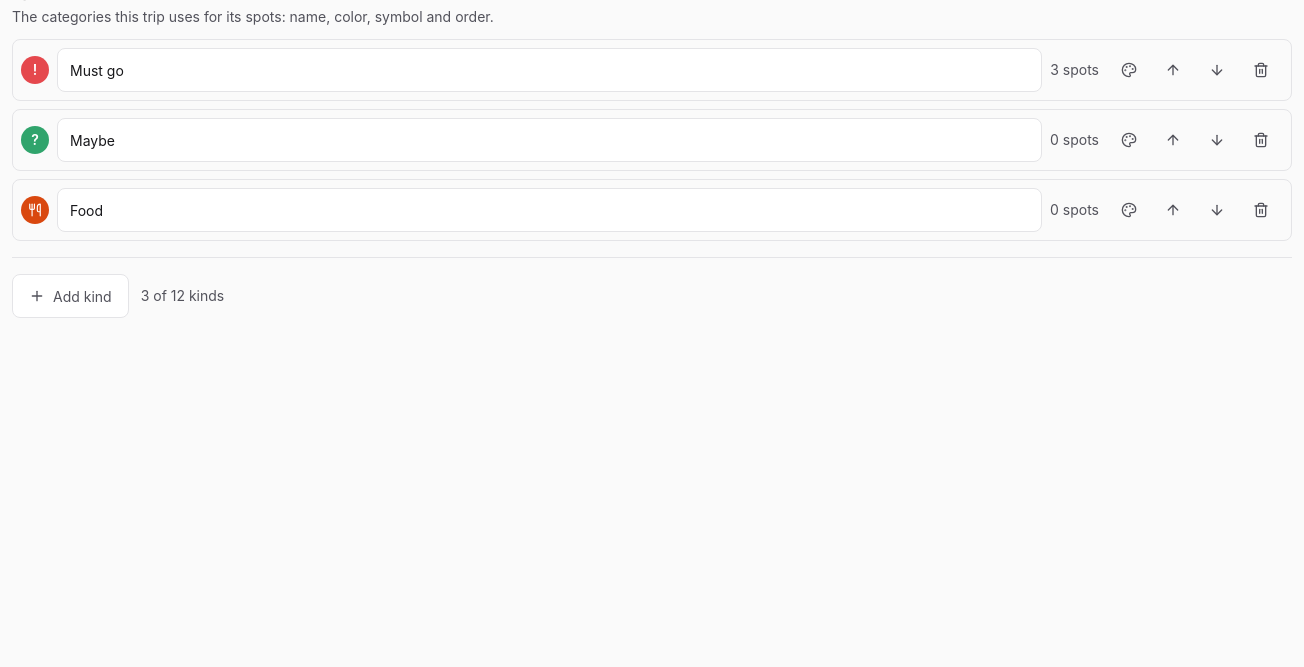
Test: spot kinds section › shows a name conflict from the API
Click the button with test id "kind-add-menu" at (70, 296), box [12,274,129,318]
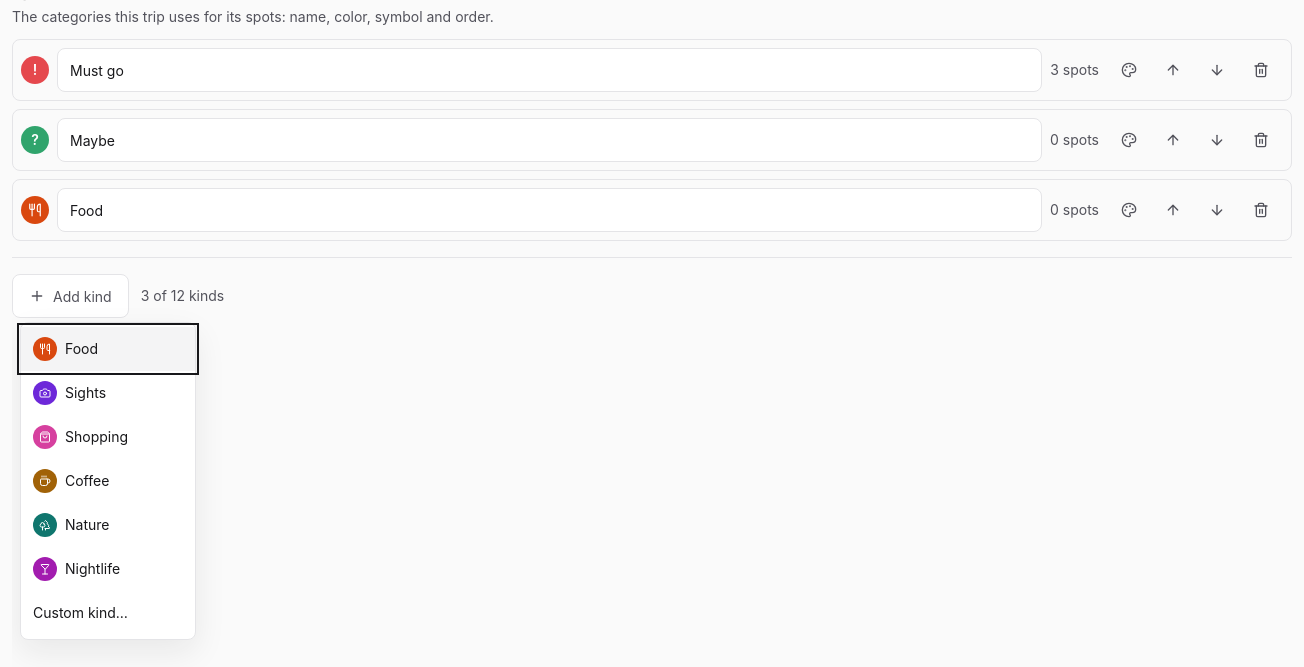
Click the menu item with test id "kind-add-custom" at (108, 613), box [21,591,195,635]
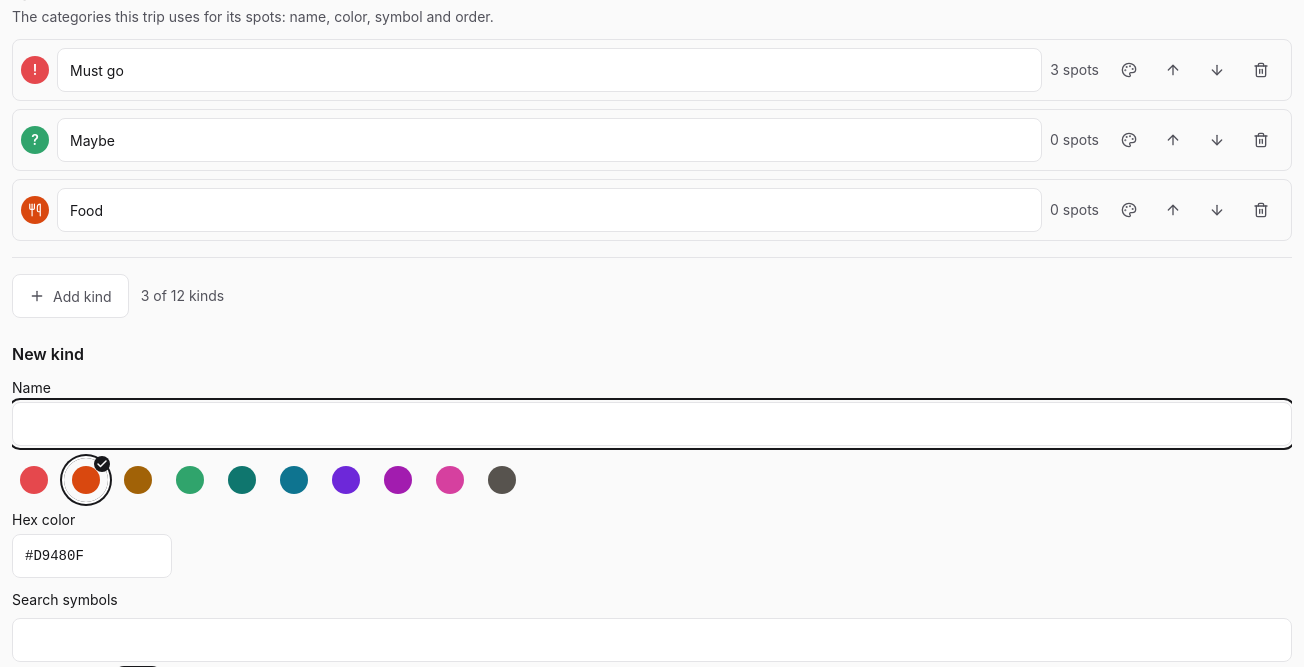
Type "Food" into the field labelled "Name" at (652, 424), box [12,402,1292,446]
(page scrolled)
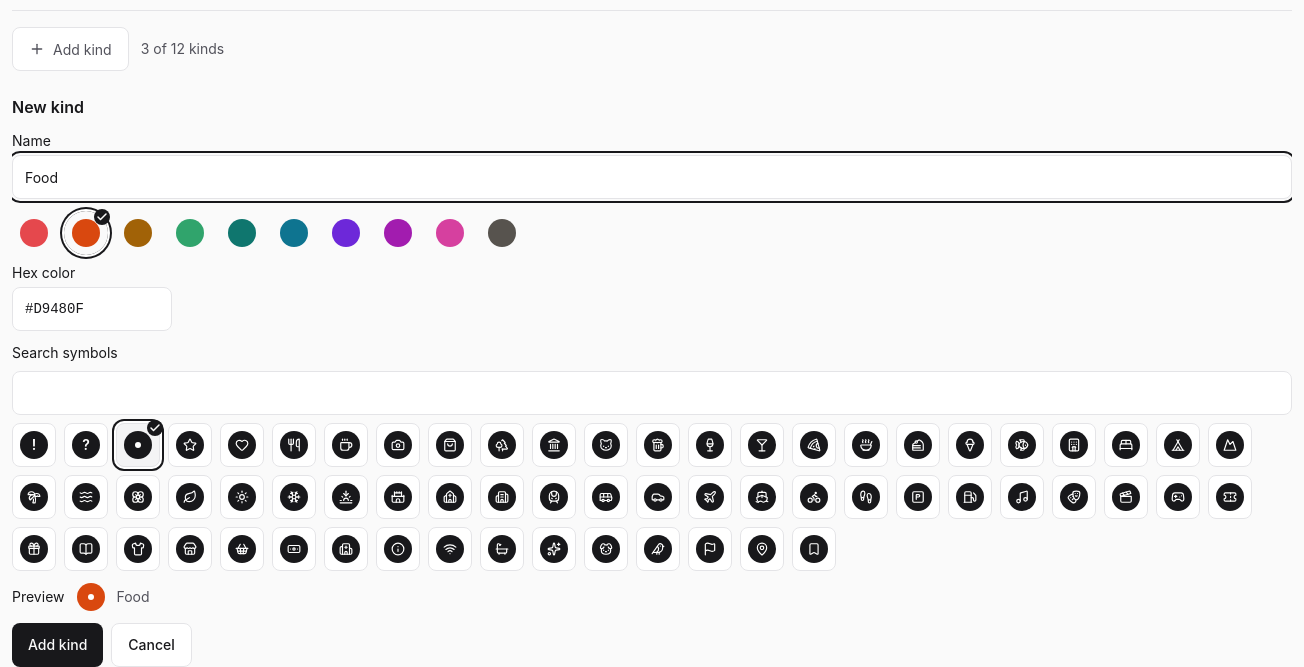
Click the button "Add kind" below "Preview" at (58, 645), box [12,623,103,666]
(page scrolled)
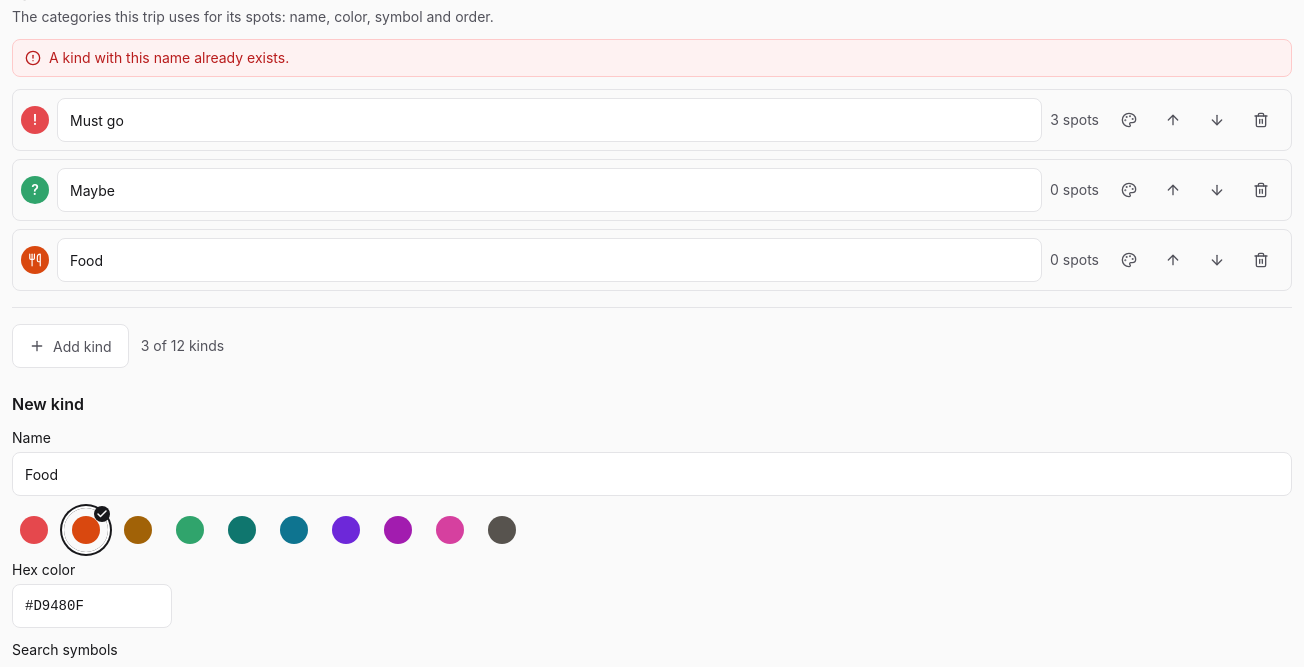
expect the message with test id "kinds-error" shows "already exists": met, box [49,49,289,66]
